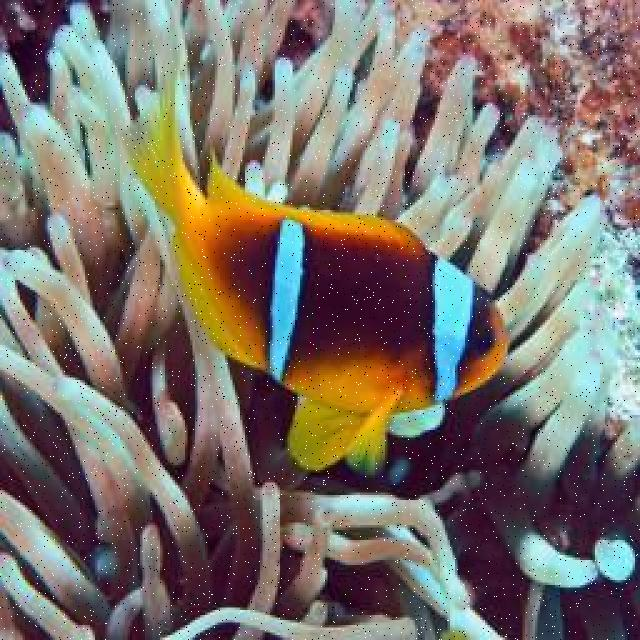fish: (120, 37, 510, 473)
